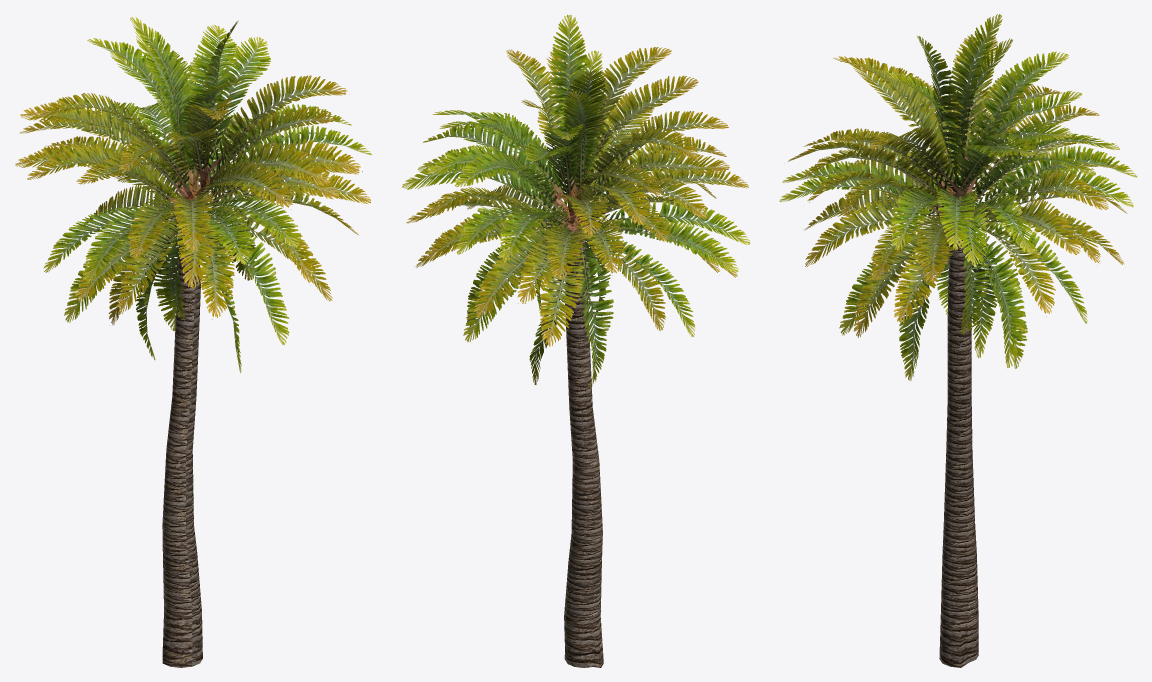
The model's file is real-palm.glb.
3 renders of one model, left to right at view 1: azimuth 30°, elevation 25°; view 2: azimuth 150°, elevation 25°; view 3: azimuth 270°, elevation 25°, orthographic. The views are drawn at different scales.
Visible parts, largest first — view 1: palm.001; view 2: palm.001; view 3: palm.001.
Part boxes in pixels (x1=…): palm.001: x1=15, y1=17, x2=371, y2=667; palm.001: x1=402, y1=14, x2=750, y2=667; palm.001: x1=779, y1=14, x2=1137, y2=667.
Size of the model in its own units: 3.68 by 7.16 by 3.63.
Materials: 1 (1 with a texture image).
